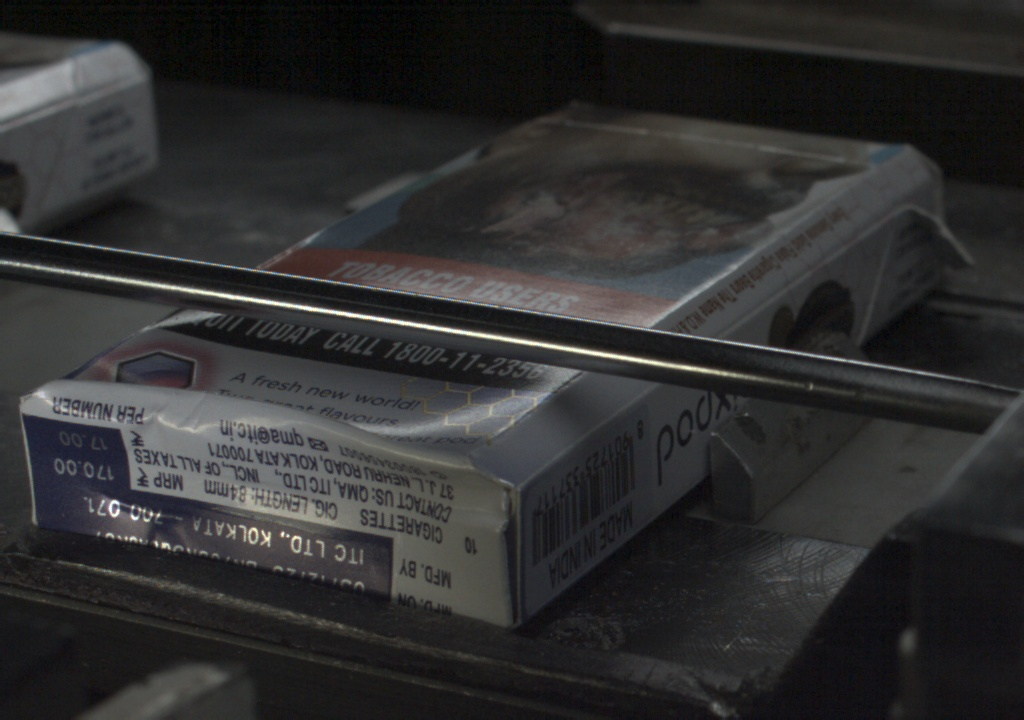g_lmiter: (722, 273, 805, 336), (805, 213, 892, 273), (585, 388, 655, 437), (518, 437, 585, 488)
ng_bottom: (19, 366, 513, 629)
ng_label: (42, 501, 400, 603)
ng_miter: (898, 192, 972, 272)
price: (39, 427, 129, 498)
